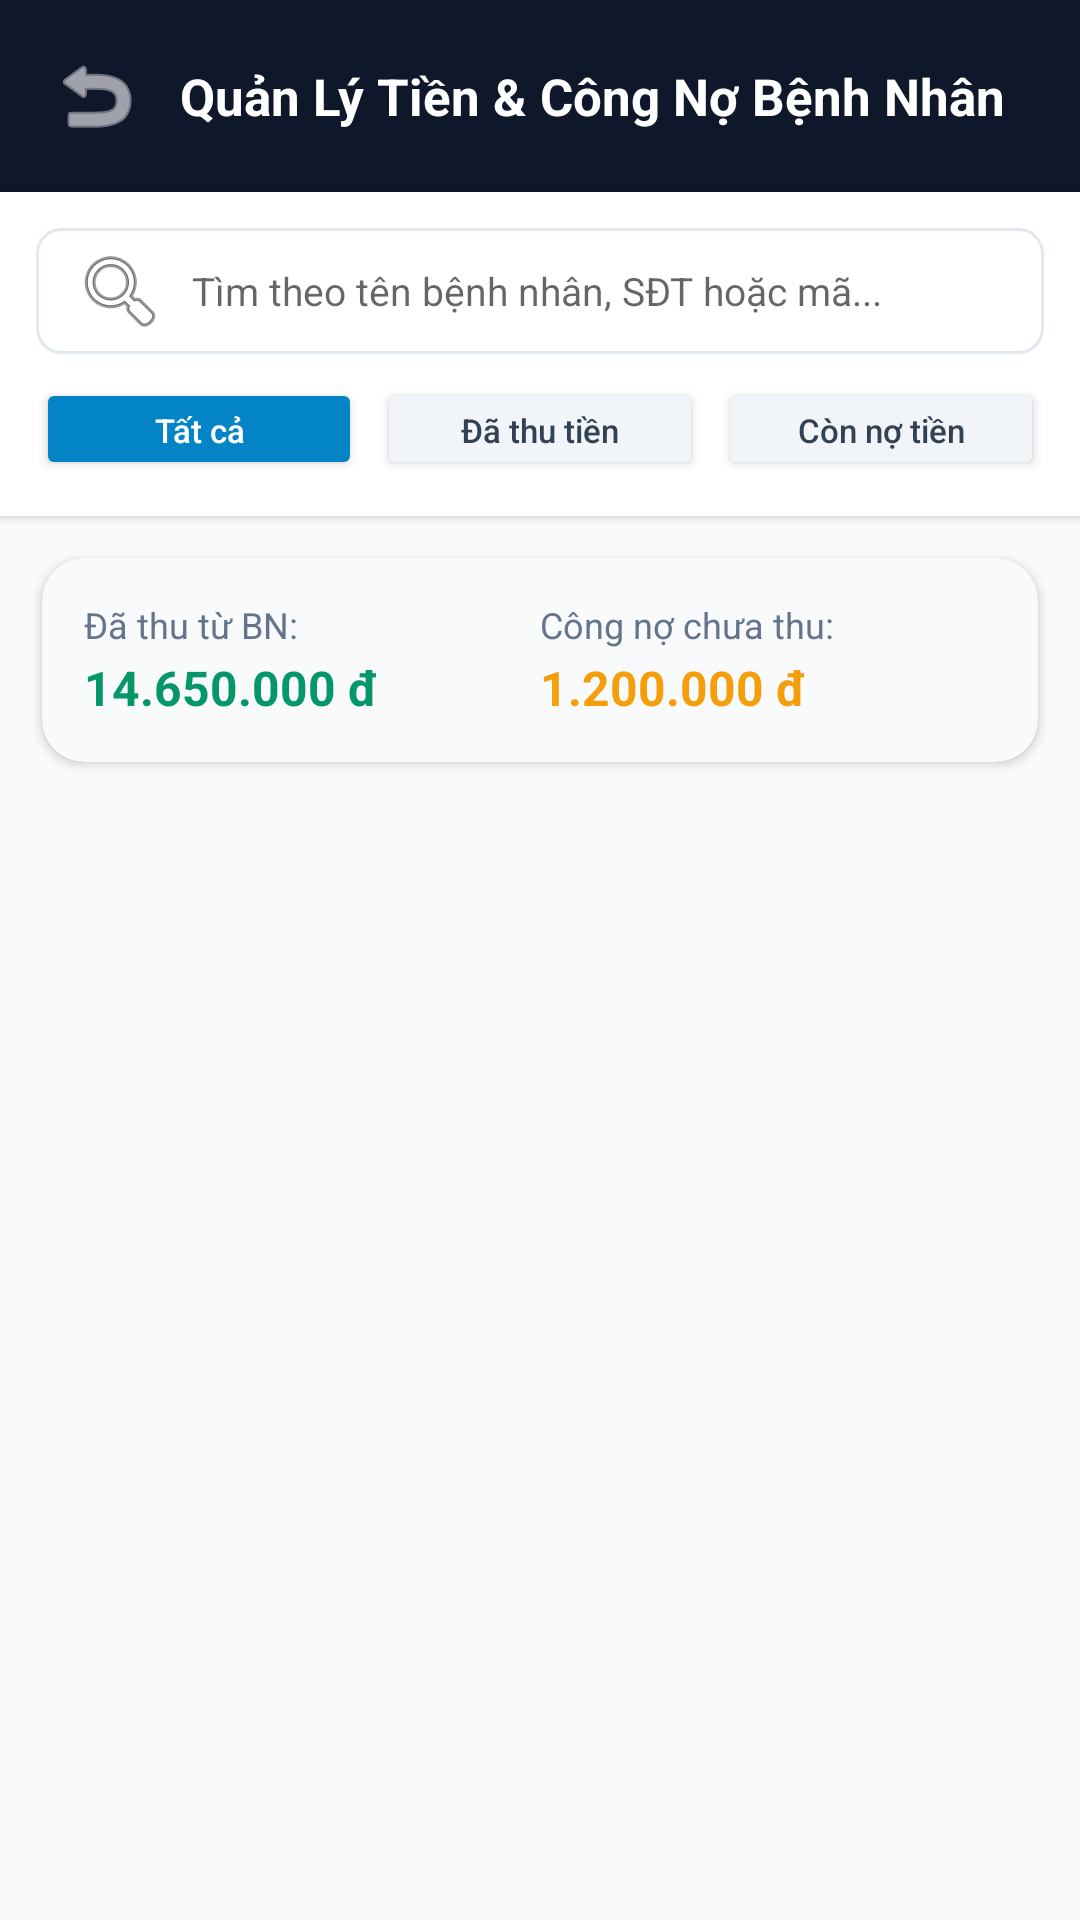

Icons on this 1080 × 1920 Android screen, each with its box as [x1=x1, y1=y1, x2=x2, y2=y2]:
revert: [x1=63, y1=65, x2=132, y2=128]
